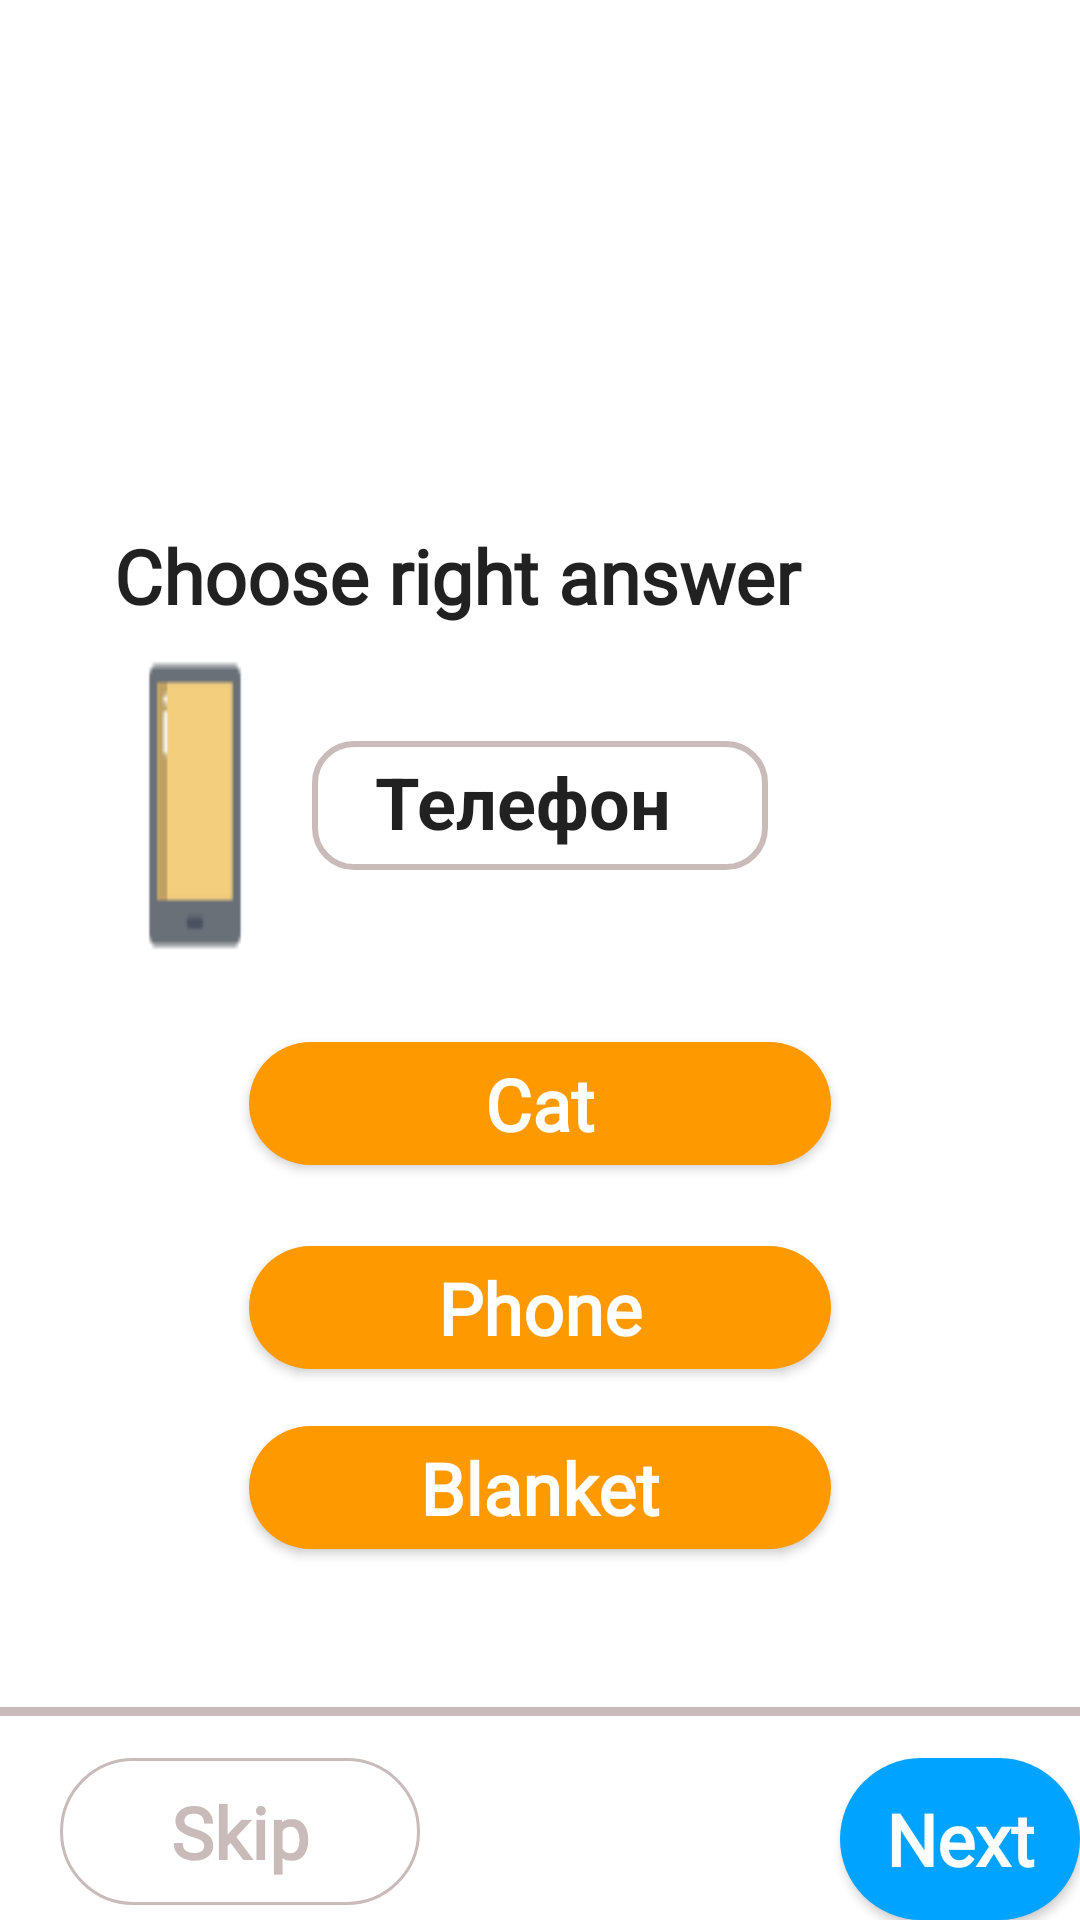

Locate icon controls on the screen. Image size 1080×1920, boxes as (x1, y1, x2, y2).
phone: (149, 662, 241, 949)
